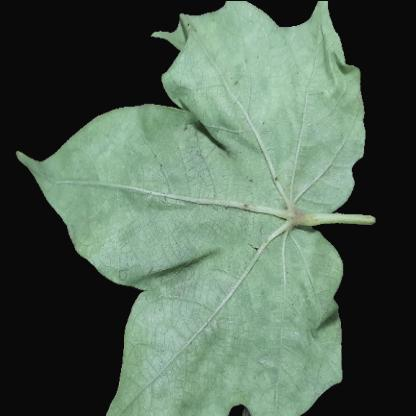curl_stage2: (230, 137, 340, 290), (131, 240, 234, 373), (241, 301, 323, 403), (225, 33, 293, 125), (62, 134, 125, 223)
